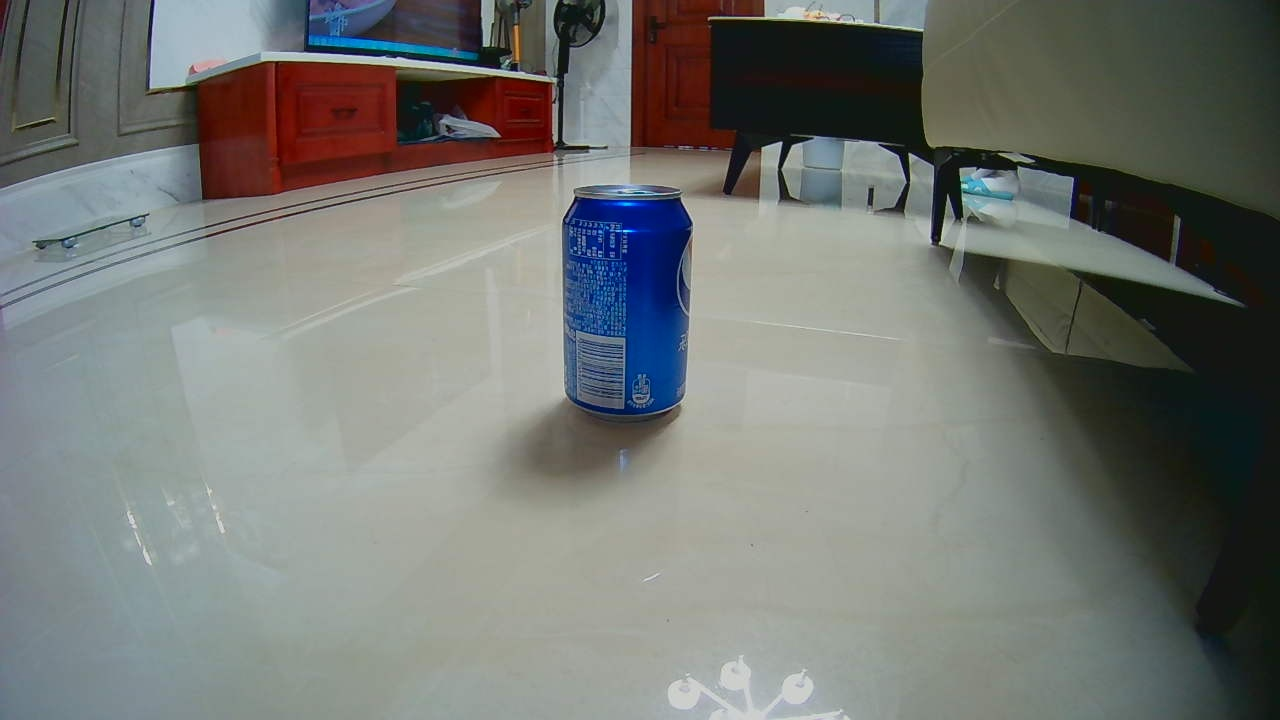pessi: (558, 190, 691, 418)
